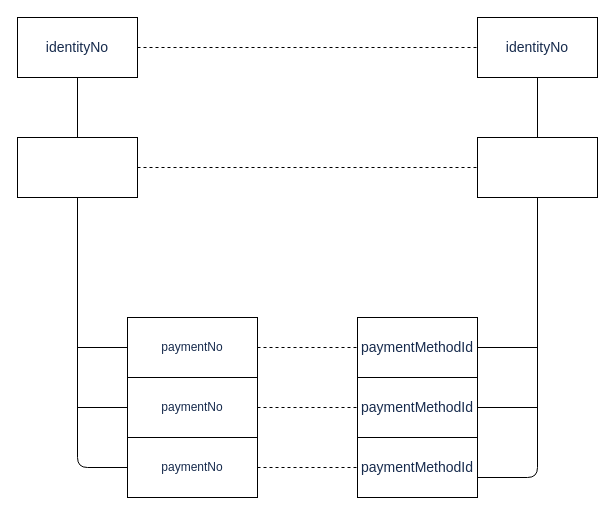
The diagram is 615 pixels wide and 515 high, and some of its shapes have lost their labels. The shapes that lost their labels are listed below. From the top down, each one's box as (x1, y1, x2, y2) in pixels, then its label:
(16, 136, 138, 198): brokerUserId
(476, 136, 598, 198): accountId
